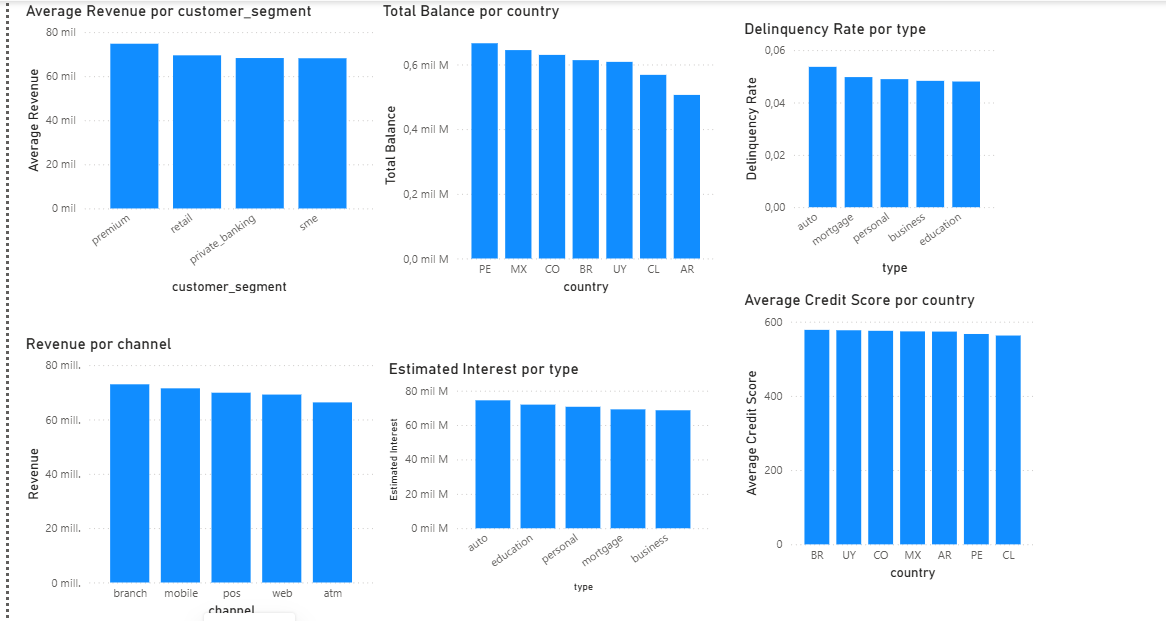

What the dashboard file says about the page in this screenshot:
{"tool":"powerbi","page":{"name":"Página 1","canvas":[1280,720],"ordinal":0},"visuals":[{"type":"clusteredColumnChart","fields":{"Category":["gold dim_customer.customer_segment"],"Y":["gold dim_customer.Average Revenue"]},"box":[13,0,385.4,320.6],"z":0},{"type":"clusteredColumnChart","fields":{"Y":["gold dim_customer.Total Balance"],"Category":["gold dim_customer.country"]},"box":[398.3,0,367.6,320.6],"z":1000},{"type":"clusteredColumnChart","fields":{"Y":["gold dim_customer.Revenue"],"Category":["gold fact_transactions.channel"]},"box":[13,359.5,385.4,310.9],"z":2000},{"type":"clusteredColumnChart","fields":{"Y":["gold dim_customer.Estimated Interest"],"Category":["gold fact_loans.type"]},"box":[404.8,387,356.2,255.8],"z":3000},{"type":"clusteredColumnChart","fields":{"Y":["gold dim_customer.Delinquency Rate"],"Category":["gold fact_loans.type"]},"box":[788.3,19.9,280.8,280.8],"z":4000},{"type":"clusteredColumnChart","fields":{"Y":["gold dim_customer.Average Credit Score"],"Category":["gold dim_customer.country"]},"box":[788.3,312.7,322.7,316.7],"z":5000}]}

Visuals, with their boxes on the page's 1280x720 design canvas (x1, y1, x2, y2). These are canvas units, not pixel positions in the 1166x621 screenshot, which may show the page scaled, cropped or inside an application window:
clusteredColumnChart - gold dim_customer.customer_segment x gold dim_customer.Average Revenue: 13 0 398 321
clusteredColumnChart - gold dim_customer.Total Balance x gold dim_customer.country: 398 0 766 321
clusteredColumnChart - gold dim_customer.Revenue x gold fact_transactions.channel: 13 360 398 670
clusteredColumnChart - gold dim_customer.Estimated Interest x gold fact_loans.type: 405 387 761 643
clusteredColumnChart - gold dim_customer.Delinquency Rate x gold fact_loans.type: 788 20 1069 301
clusteredColumnChart - gold dim_customer.Average Credit Score x gold dim_customer.country: 788 313 1111 629
